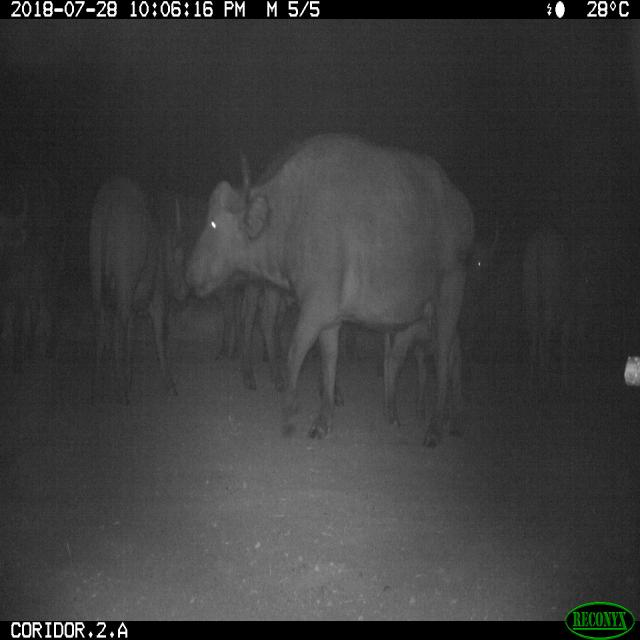buffalo: (180, 134, 488, 432)
